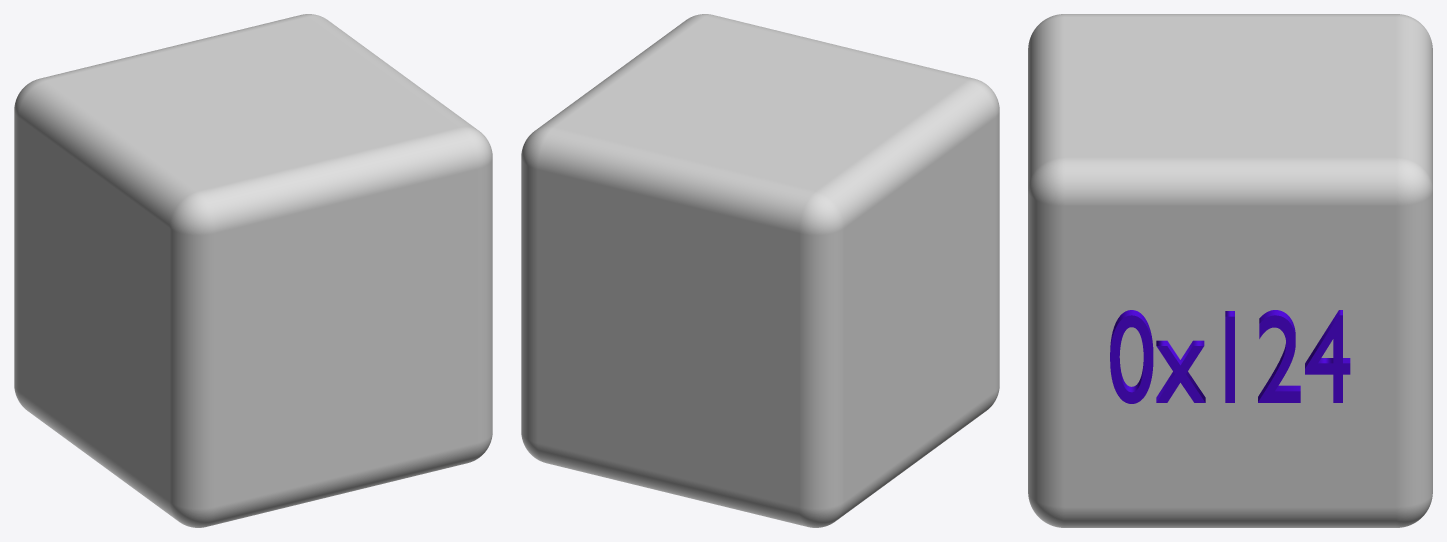
The model's file is Instr14 1.fbx.
3 renders of one model, left to right at view 1: azimuth 30°, elevation 25°; view 2: azimuth 150°, elevation 25°; view 3: azimuth 270°, elevation 25°, orthographic. The views are drawn at different scales.
Parts seen in each view (by area): view 1: Cube; view 2: Cube; view 3: Cube, Text.
Boxes of the visible parts, <box> form: Cube: <box>14,14,492,527</box>; Cube: <box>521,14,999,527</box>; Cube: <box>1028,14,1432,527</box>; Text: <box>1110,310,1350,403</box>.
Size of the model in its own units: 69.29 by 67.15 by 67.15.
